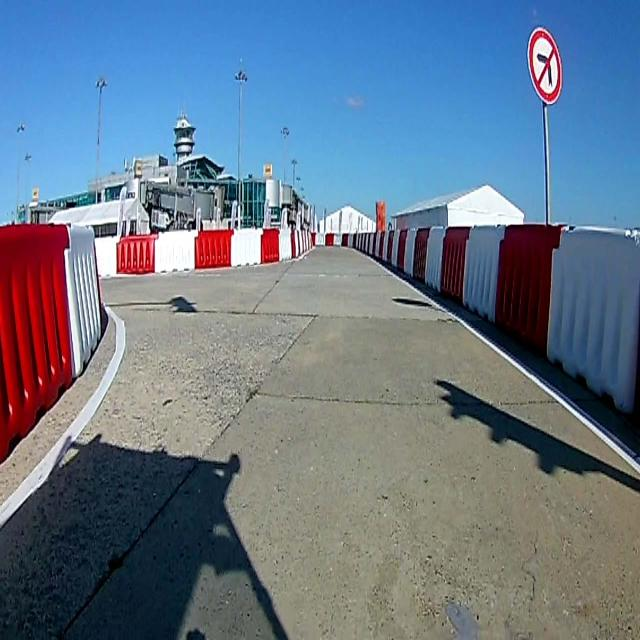soladonulmez: (526, 26, 562, 103)
